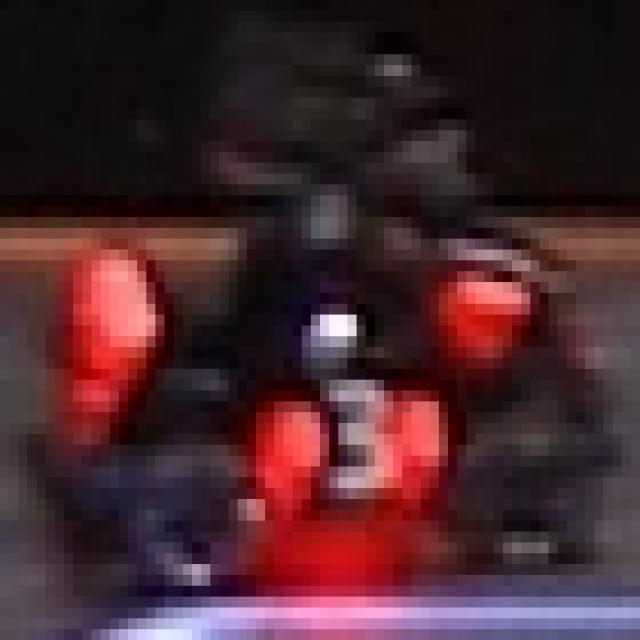R3: (265, 369, 448, 499)
